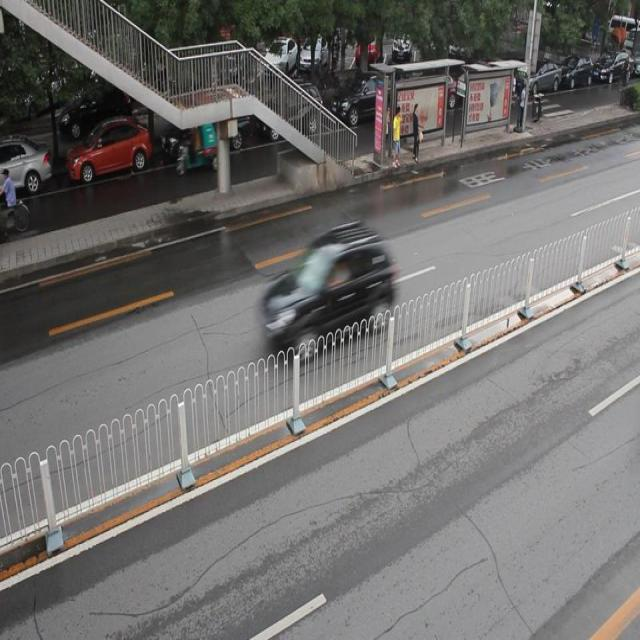car: (259, 224, 392, 363), (65, 117, 152, 184), (160, 102, 250, 162), (258, 81, 322, 141), (334, 70, 400, 126), (1, 137, 52, 195)
